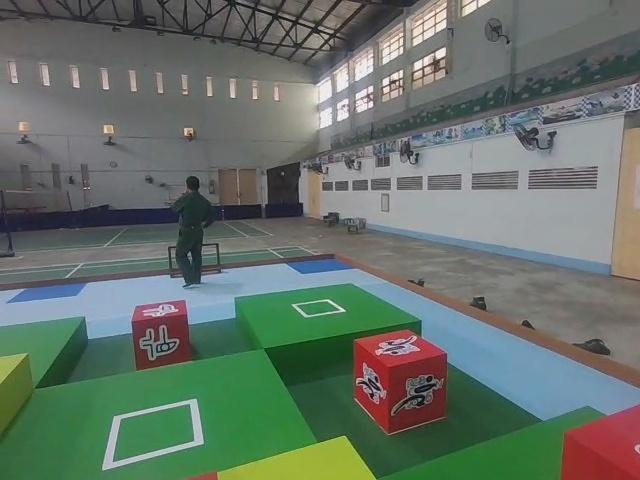R1: (349, 325, 451, 437)
R2 Real: (127, 296, 193, 371)
